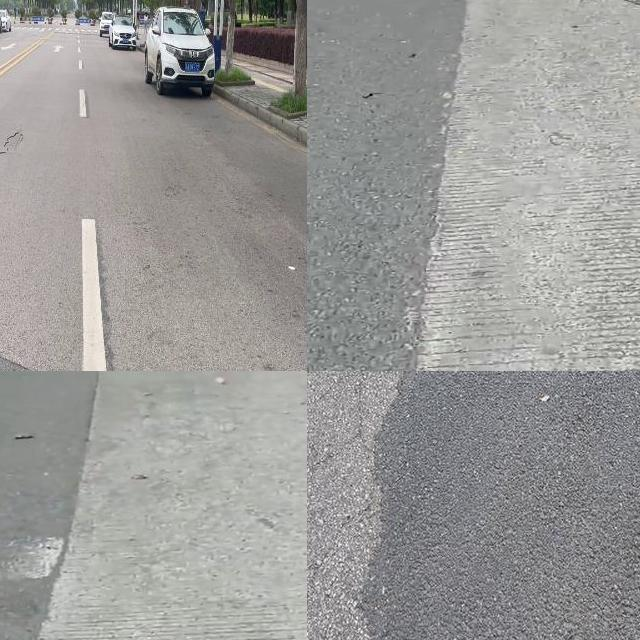Sambungan: (413, 0, 640, 371), (358, 371, 640, 638), (40, 371, 307, 640)
